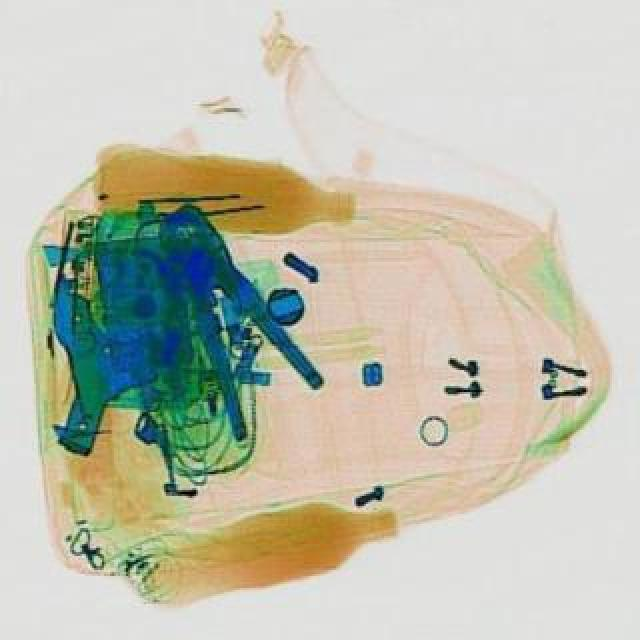wrench: (116, 188, 330, 440)
